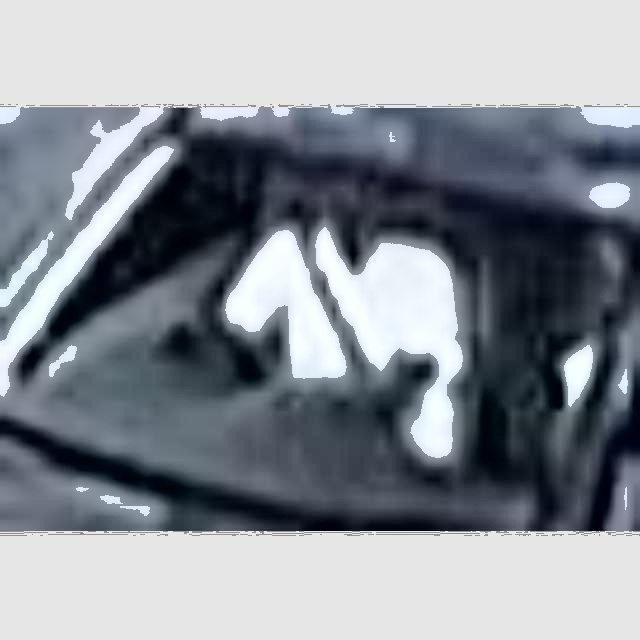pakai: (207, 174, 452, 437)
